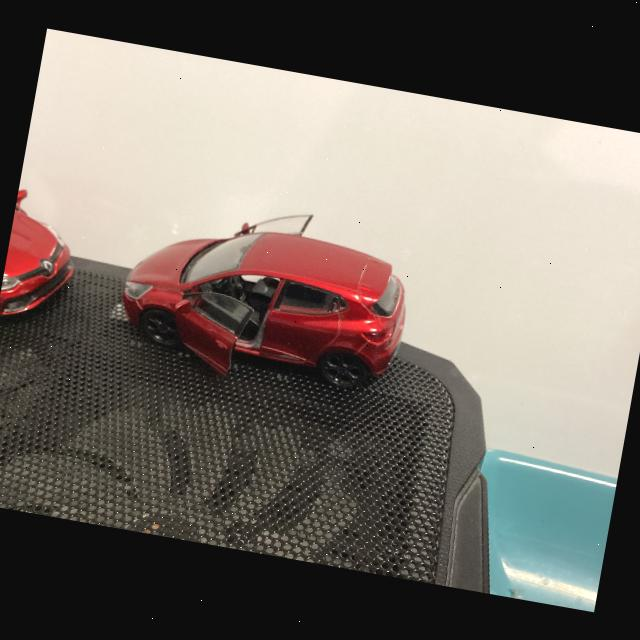Dogru_Jant: (322, 354, 365, 388), (144, 314, 178, 345)
